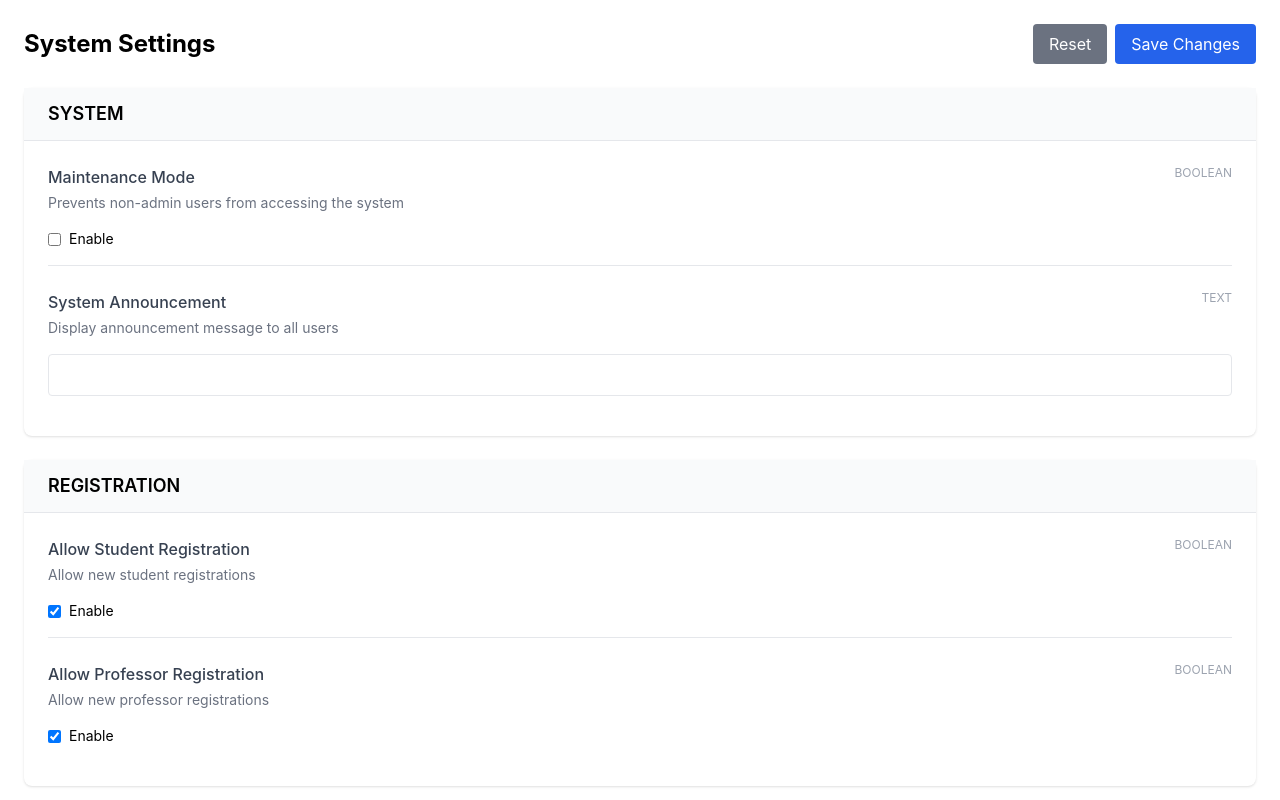
Scenario: SystemSettingsForm Tests › shows error message when save fails
Expected: the heading "System Settings" is shown, [24,28,215,60]
Click the button "Save Changes": (1186, 44) [1115,24,1256,64]
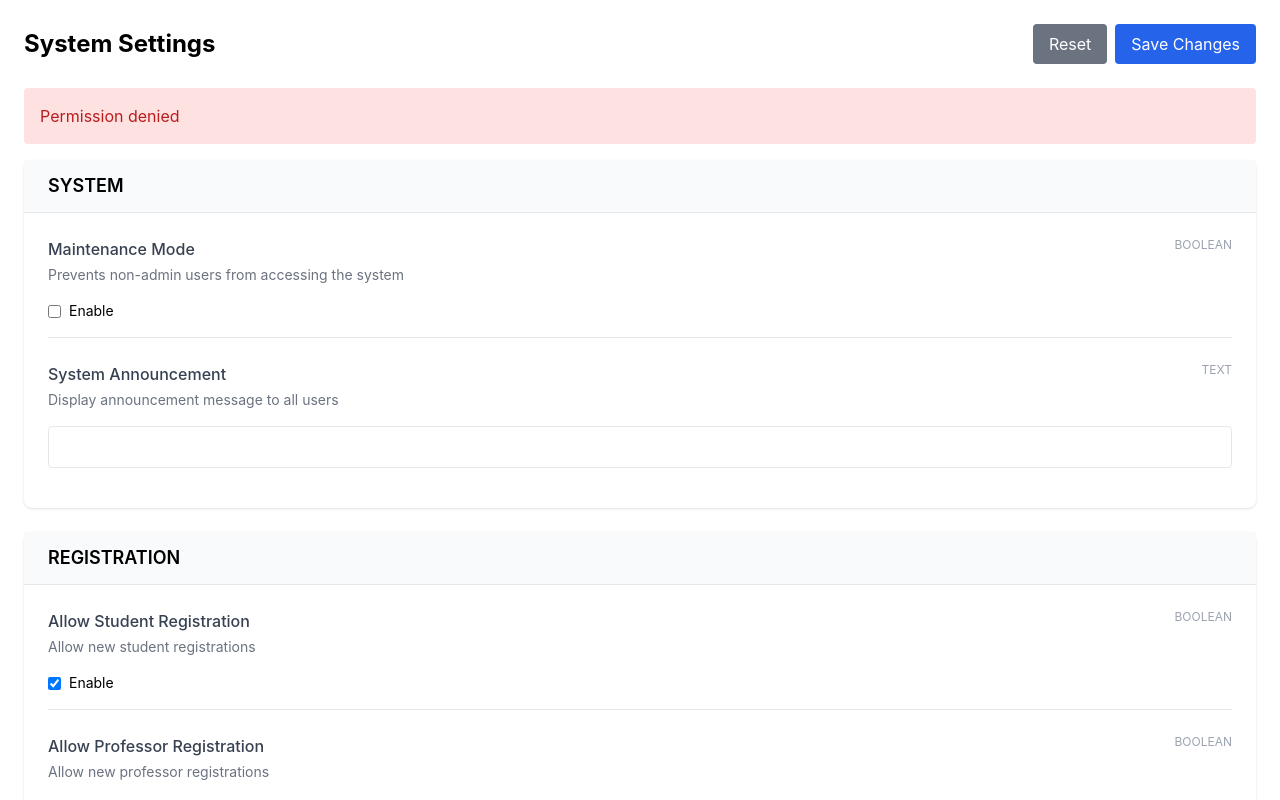
Now the text "Permission denied" is shown, box [24,88,1256,144]
